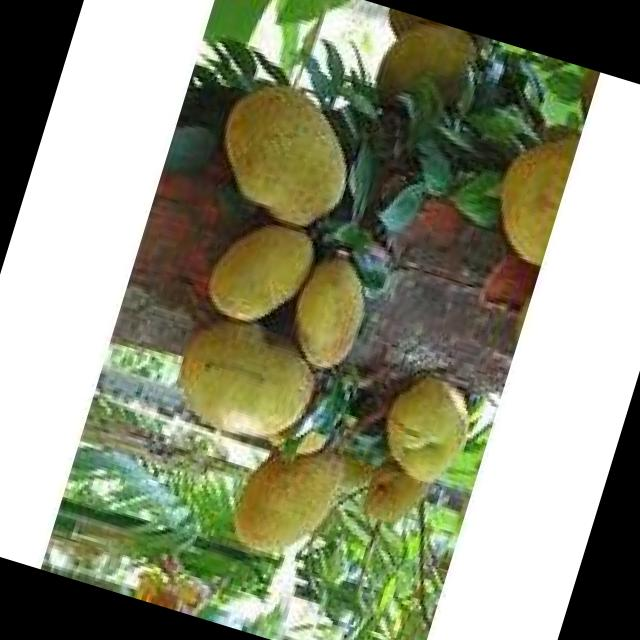Fruit: (130, 167, 408, 487), (182, 54, 386, 252)
